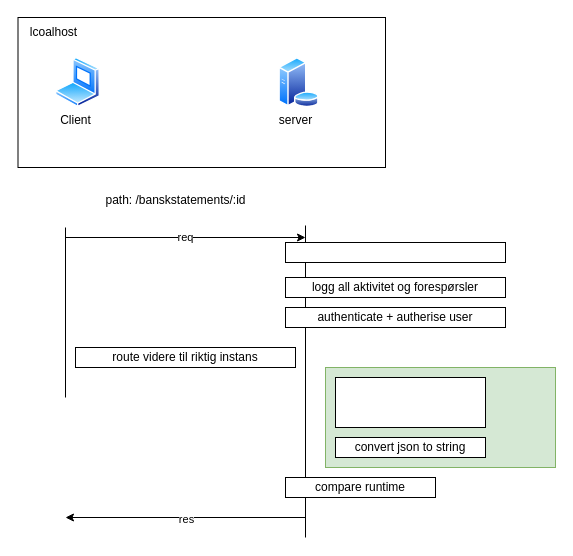
Some shapes in this 573 by 556 pixel diagram are drawn without their labels. Each missing label, with the centre of its shape:
"/register and handle registration to db" goes at [410,402].
"convert from str to json" goes at [395,252].
